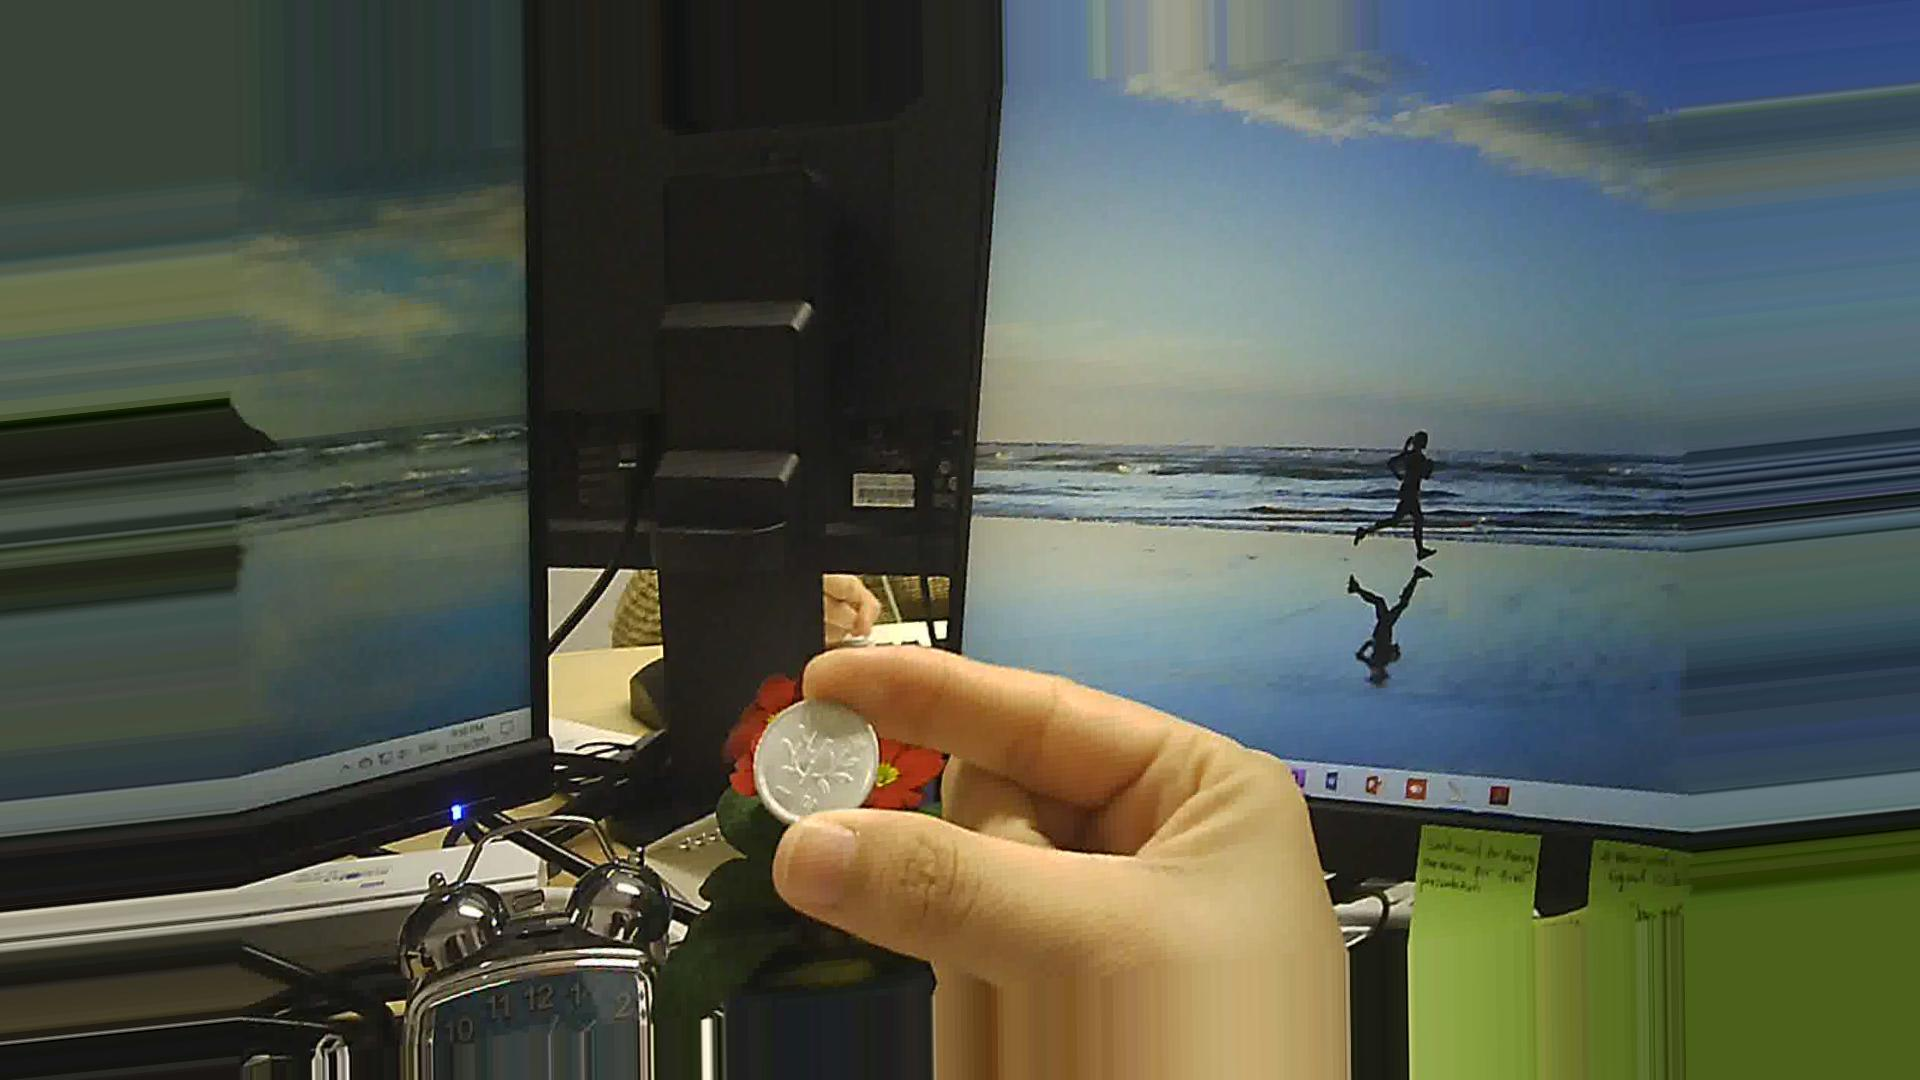1 Yen: (746, 692, 893, 841)
